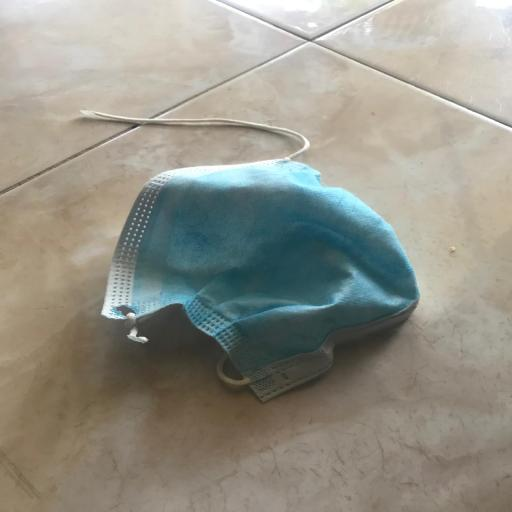waste: (71, 102, 427, 401)
